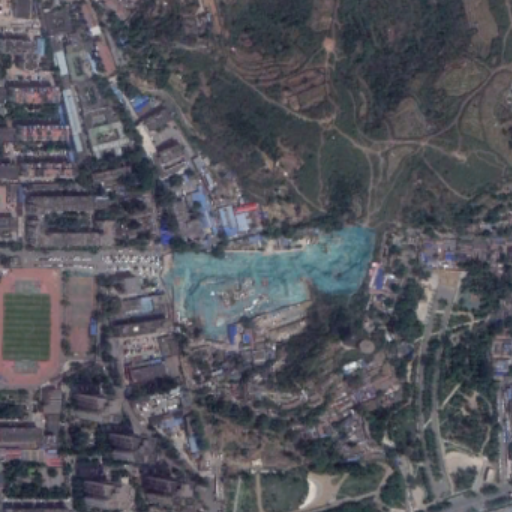cw: (161, 226, 378, 338)
